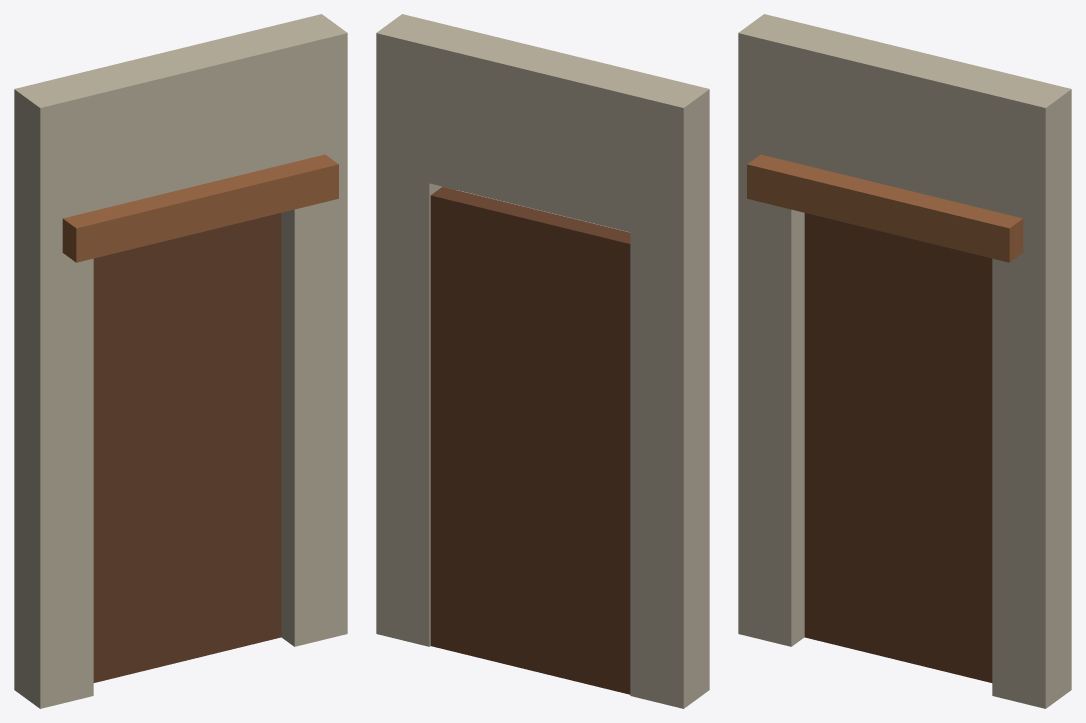
File: wk_facade_door_v01.glb
3 views of the same model, side by side, from view 1: azimuth 30°, elevation 25°; view 2: azimuth 150°, elevation 25°; view 3: azimuth 330°, elevation 25° (orthographic).
Visible parts, largest first — view 1: GEO_DoorLeaf, GEO_DoorSide-1, GEO_DoorSide+1, GEO_DoorHeader, GEO_DoorLintel; view 2: GEO_DoorLeaf, GEO_DoorSide-1, GEO_DoorSide+1, GEO_DoorHeader; view 3: GEO_DoorLeaf, GEO_DoorSide+1, GEO_DoorSide-1, GEO_DoorHeader, GEO_DoorLintel.
Boxes of the visible parts, x1,y1,x2,y2 form: GEO_DoorLeaf: (93, 213, 281, 682); GEO_DoorSide-1: (14, 76, 93, 708); GEO_DoorSide+1: (269, 14, 347, 646); GEO_DoorHeader: (68, 27, 294, 210); GEO_DoorLintel: (62, 154, 338, 262); GEO_DoorLeaf: (430, 187, 630, 694); GEO_DoorSide-1: (630, 76, 709, 708); GEO_DoorSide+1: (376, 14, 455, 646); GEO_DoorHeader: (429, 27, 655, 232); GEO_DoorLeaf: (804, 213, 992, 682); GEO_DoorSide+1: (992, 76, 1071, 708); GEO_DoorSide-1: (738, 14, 816, 646); GEO_DoorHeader: (791, 27, 1017, 210); GEO_DoorLintel: (747, 154, 1023, 262).
Size of the model in its own units: 1.5 by 2.8 by 0.335.
